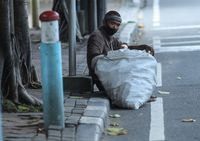gelandangan: (86, 7, 167, 110)
